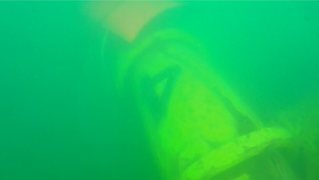4: (139, 64, 180, 131)
leak: (97, 1, 197, 42)
pipe: (113, 28, 301, 180), (263, 95, 319, 164)
